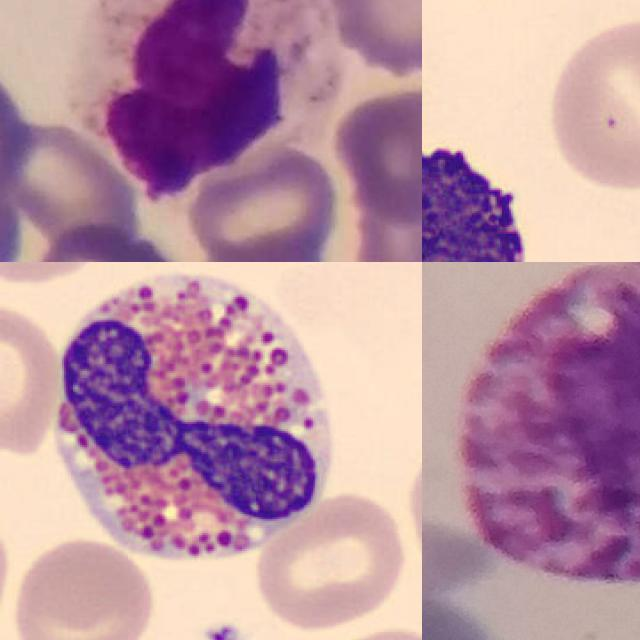Basophil: (455, 262, 640, 585), (422, 124, 544, 262)
Eosinophil: (37, 262, 341, 580)
Neutrophil: (71, 0, 337, 192)
Platelets: (197, 616, 248, 640)
RBC: (251, 489, 413, 634), (539, 13, 640, 195), (9, 534, 160, 640), (0, 300, 66, 460), (399, 424, 422, 589)
